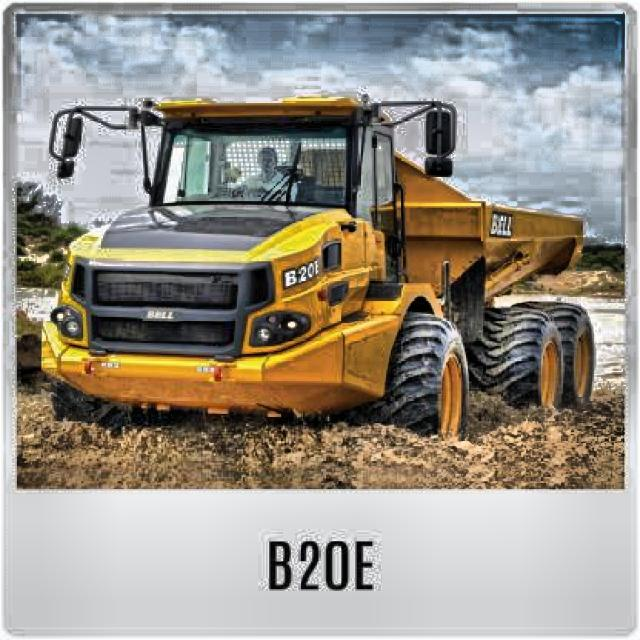dump_truck: (12, 68, 606, 460)
